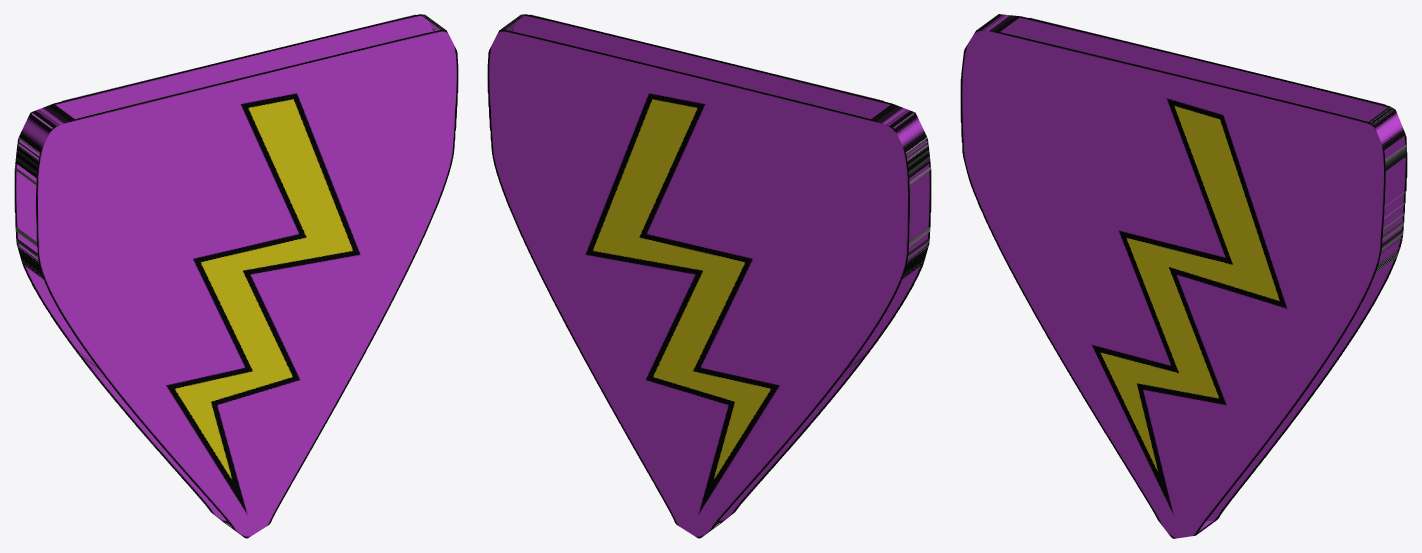
File: Speed Pickup.fbx
3 renders of one model, left to right at view 1: azimuth 30°, elevation 25°; view 2: azimuth 150°, elevation 25°; view 3: azimuth 330°, elevation 25°, orthographic.
Visible parts, largest first — view 1: polySurface2; view 2: polySurface2; view 3: polySurface2.
Part boxes in pixels (x1=…): polySurface2: x1=14, y1=14, x2=458, y2=538; polySurface2: x1=487, y1=14, x2=931, y2=538; polySurface2: x1=960, y1=14, x2=1407, y2=538.
Size of the model in its own units: 14.39 by 15.05 by 1.26.
1 material, 1 textured.
